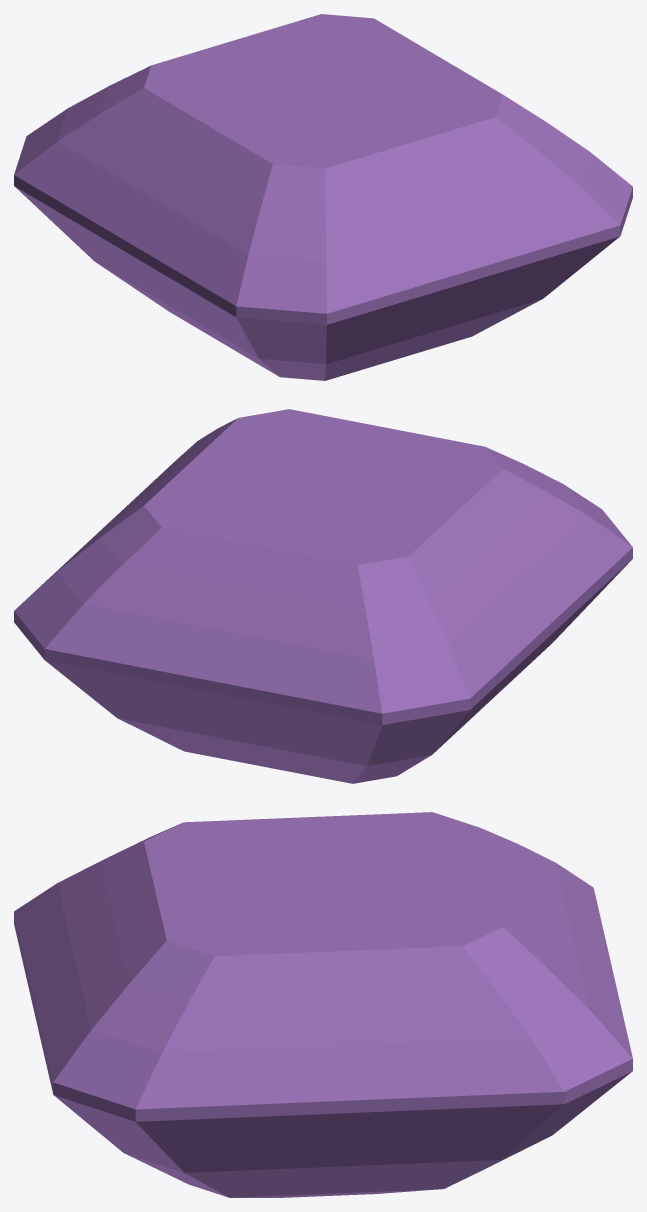
The model's file is stone-amethyst.glb.
3 renders of one model, top to bottom at view 1: azimuth 30°, elevation 25°; view 2: azimuth 150°, elevation 25°; view 3: azimuth 270°, elevation 25°, orthographic. The views are drawn at different scales.
Parts seen in each view (by area): view 1: Gemstone Amethyst; view 2: Gemstone Amethyst; view 3: Gemstone Amethyst.
Part boxes in pixels (x1,y1,x2,y2): Gemstone Amethyst: (14,14,632,380); Gemstone Amethyst: (14,409,632,783); Gemstone Amethyst: (14,812,632,1197).
Size of the model in its own units: 2.14 by 1.15 by 2.25.
